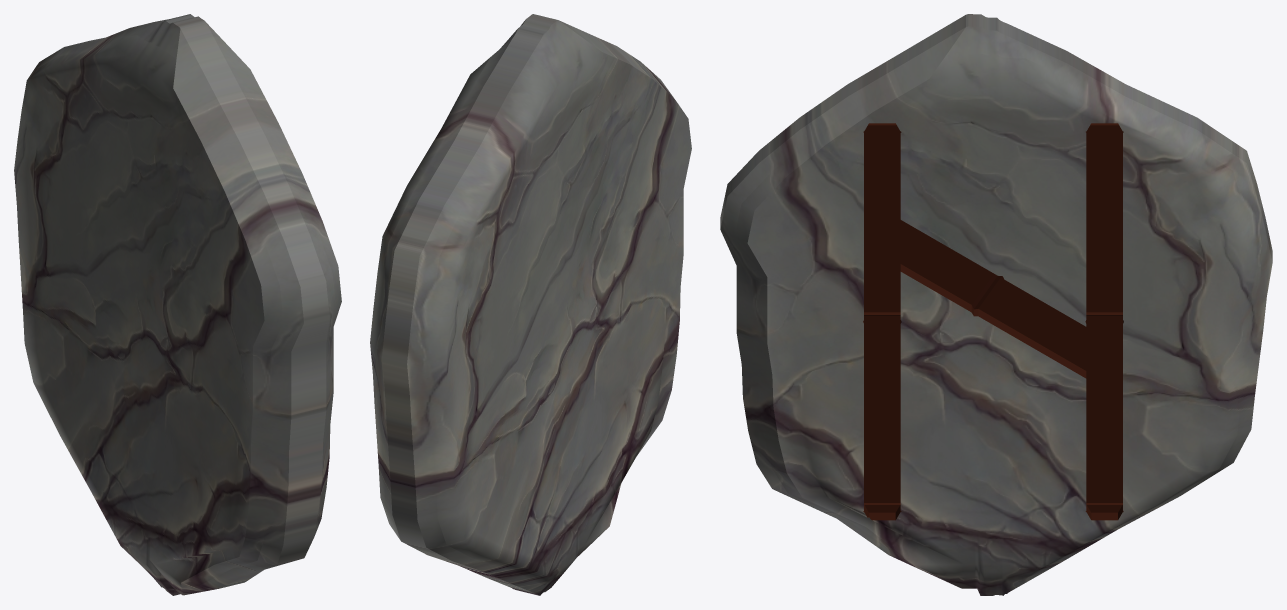
Rendered from Rune_Geo.fbx.
3 views of the same model, side by side, from view 1: azimuth 30°, elevation 25°; view 2: azimuth 150°, elevation 25°; view 3: azimuth 270°, elevation 25° (orthographic).
Visible parts, largest first — view 1: Rune_Geo; view 2: Rune_Geo; view 3: Rune_Geo.
Part boxes in pixels (left/top/right/bottom): Rune_Geo: left=14, top=14, right=341, bottom=595; Rune_Geo: left=370, top=14, right=691, bottom=595; Rune_Geo: left=720, top=14, right=1272, bottom=595.
Bounding box in the file's own units: 9.73 × 66.3 × 58.26.
